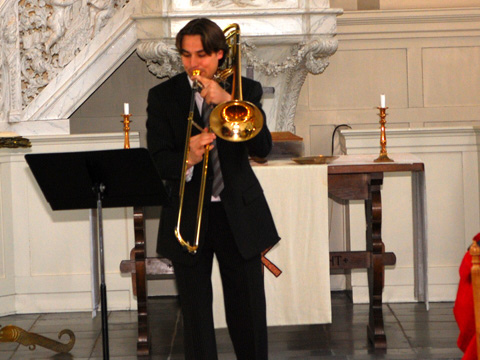person: (145, 16, 281, 360)
